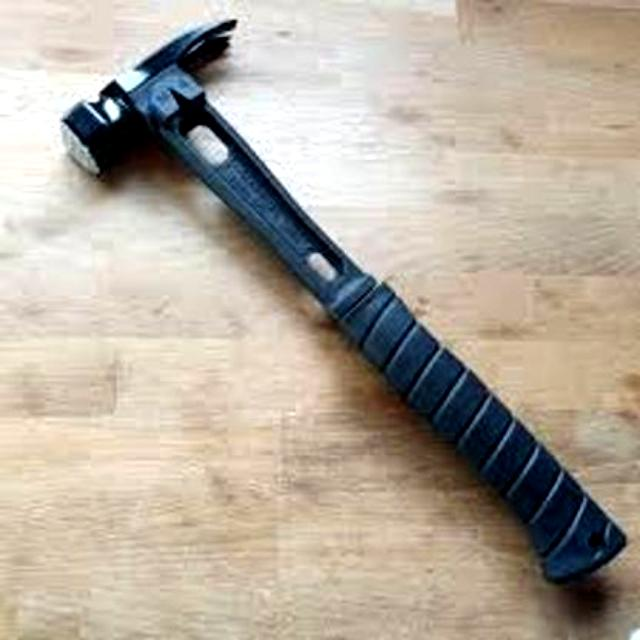hammer: (48, 12, 636, 594)
